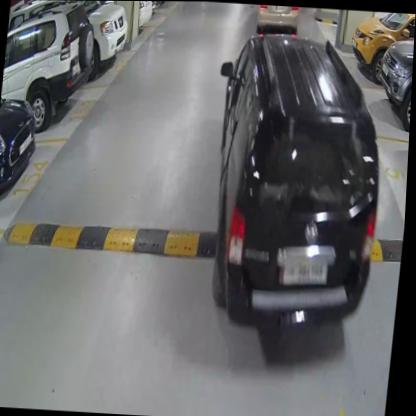np: (283, 254, 333, 286)
